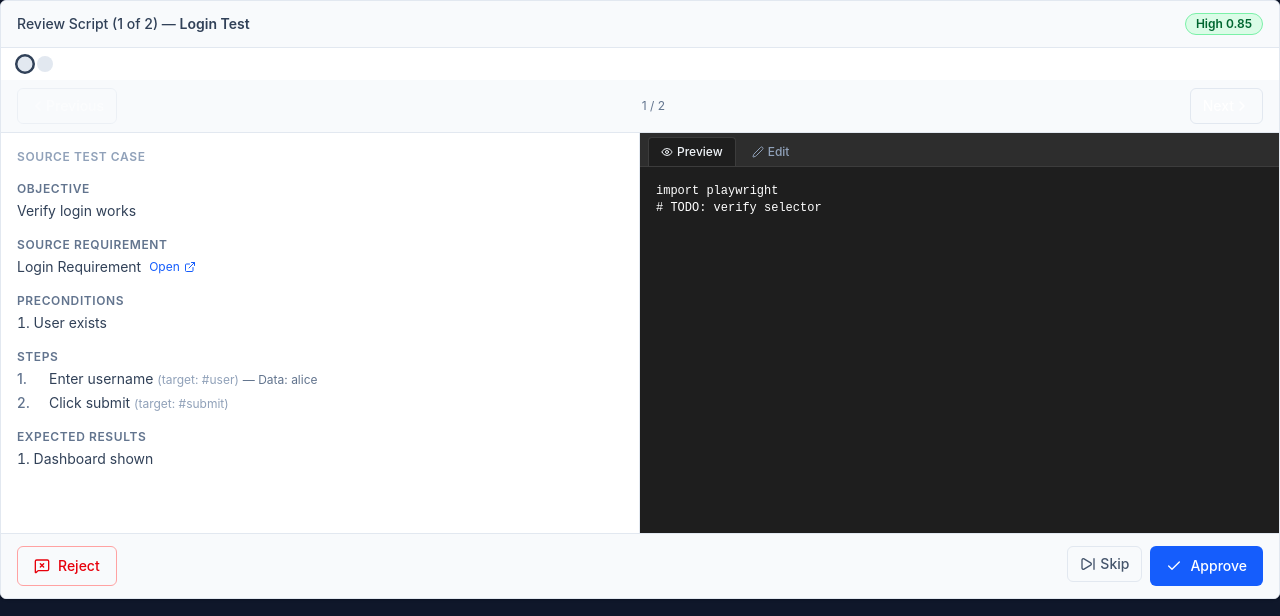
Test: SarahScriptReviewPanel › AC2 — Multi-script navigation › updates i / N counter when navigating
The image size is (1280, 616).
Expected: the text "1 / 2" is shown, [642,98,665,114]
Click the button with aria-label "Next script": (1226, 106) [1190,88,1263,124]
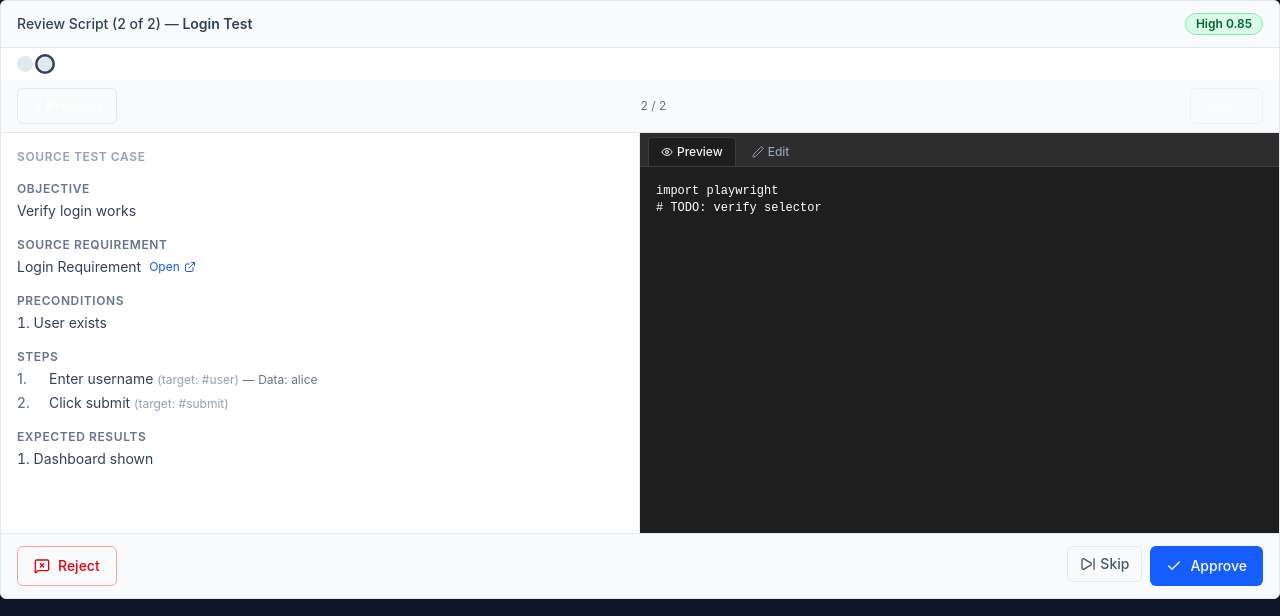
Result: the text "2 / 2" is shown at [640,98,666,114]
